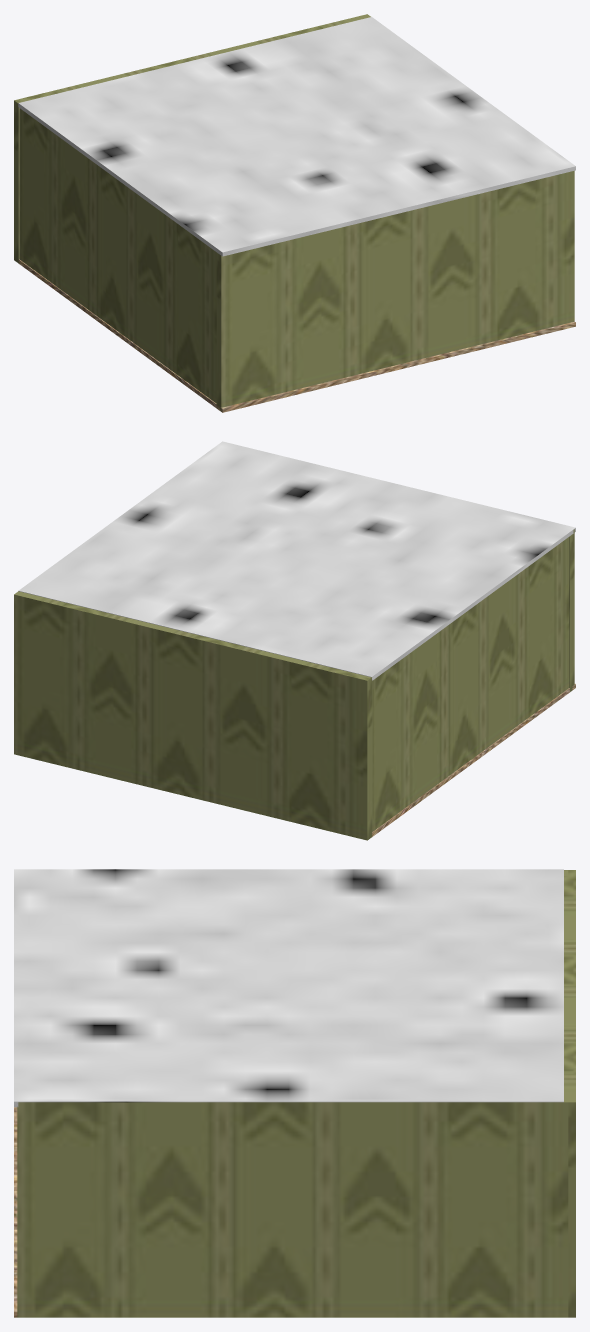
The model's file is room1.fbx.
The picture shows the model from 3 angles, top to bottom: view 1: azimuth 30°, elevation 25°; view 2: azimuth 150°, elevation 25°; view 3: azimuth 270°, elevation 25°; orthographic projection. The views are drawn at different scales.
Parts seen in each view (by area): view 1: roof, wall.001, wall.002, floor, wall; view 2: roof, wall, wall.002, floor, wall.001; view 3: roof, wall.003, wall, floor.
Boxes of the visible parts, x1,y1,x2,y2 form: roof: (18, 17, 575, 256); wall.001: (216, 170, 574, 411); wall.002: (18, 100, 216, 403); floor: (18, 259, 575, 412); wall: (14, 14, 369, 263); roof: (18, 441, 575, 680); wall: (14, 592, 372, 840); wall.002: (361, 537, 569, 831); floor: (372, 683, 575, 836); wall.001: (569, 529, 574, 691); roof: (14, 869, 563, 1107); wall.003: (18, 1097, 568, 1317); wall: (564, 870, 575, 1317); floor: (14, 1107, 17, 1317).
Size of the model in its own units: 800 by 347 by 817.
6 materials, 6 textured.
